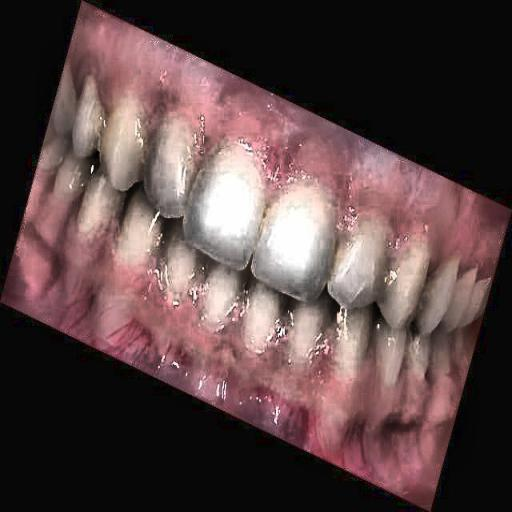Healthy: (66, 91, 456, 394)
